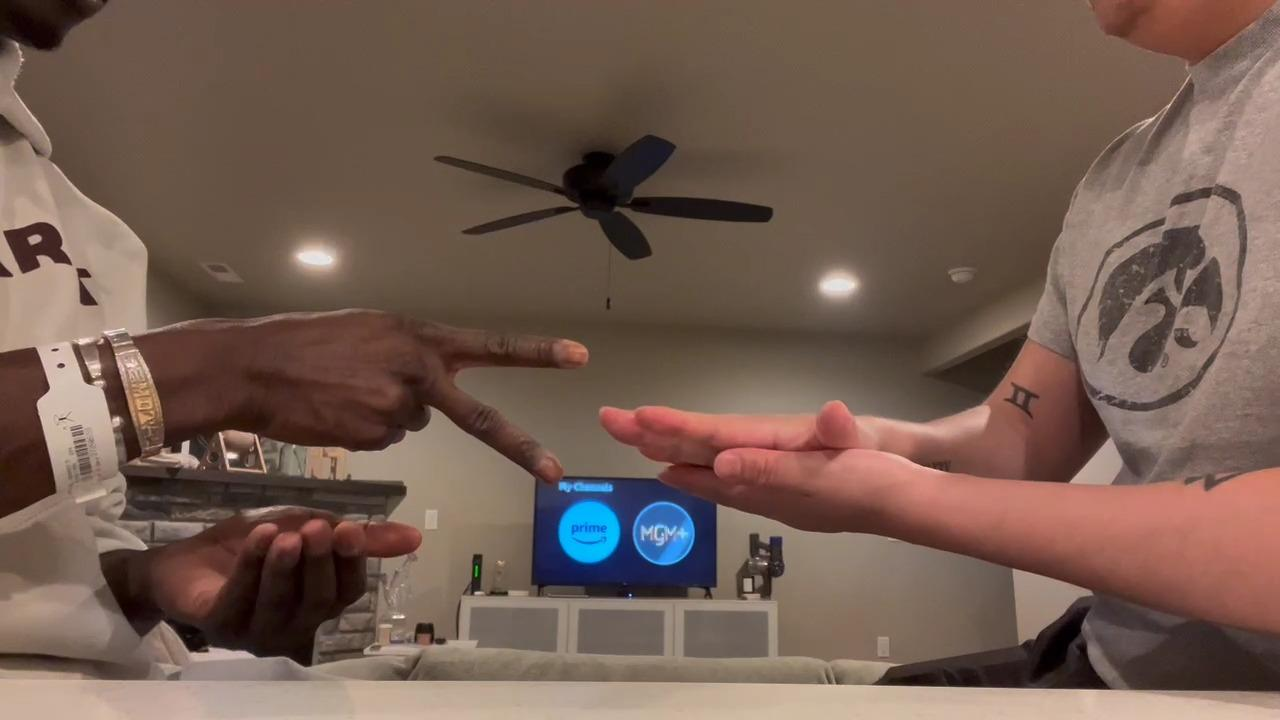Paper: (597, 399, 882, 471)
Scissors: (197, 301, 590, 486)
